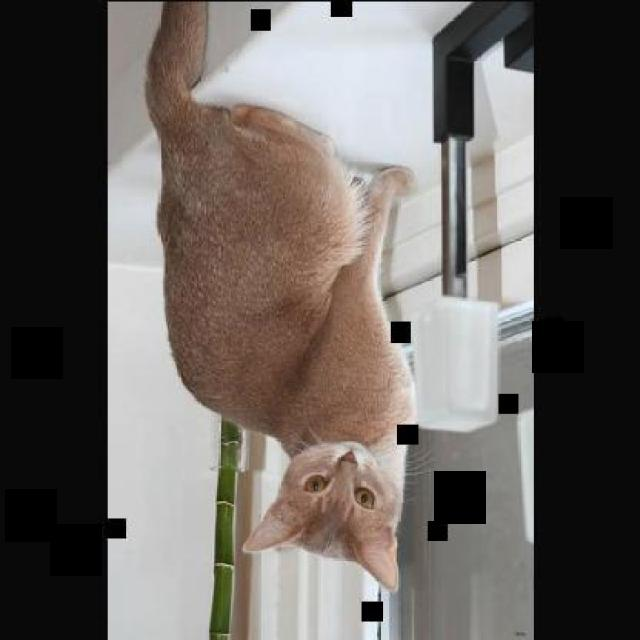unauthorized: (142, 0, 426, 594)
